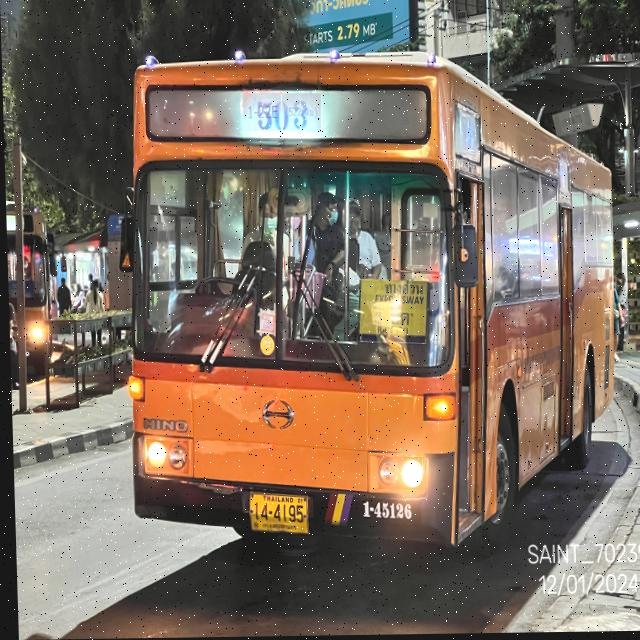BMTA-bus: (117, 54, 618, 556)
Bus-Line-Number: (236, 85, 329, 138)
Destination-Sign-Normal-Expressway: (352, 268, 430, 351)
